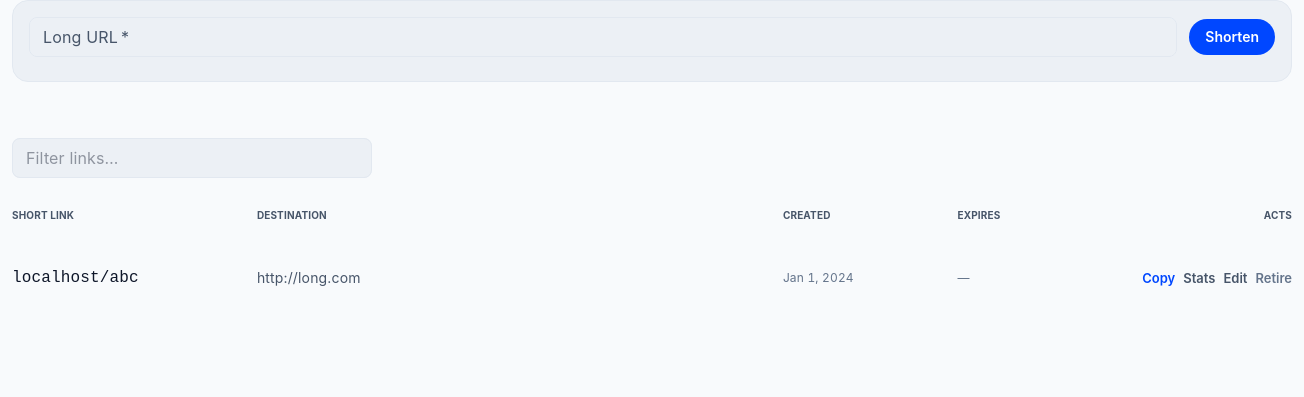
Test case: DashboardPage › in-row destination correction › states a refused destination in place and keeps the correction open
Expected: the element with test id "link-row-abc" is shown, x1=12 y1=265 x2=1292 y2=291
Click the button with test id "edit-abc" at (1236, 278), box x1=1224 y1=265 x2=1248 y2=291
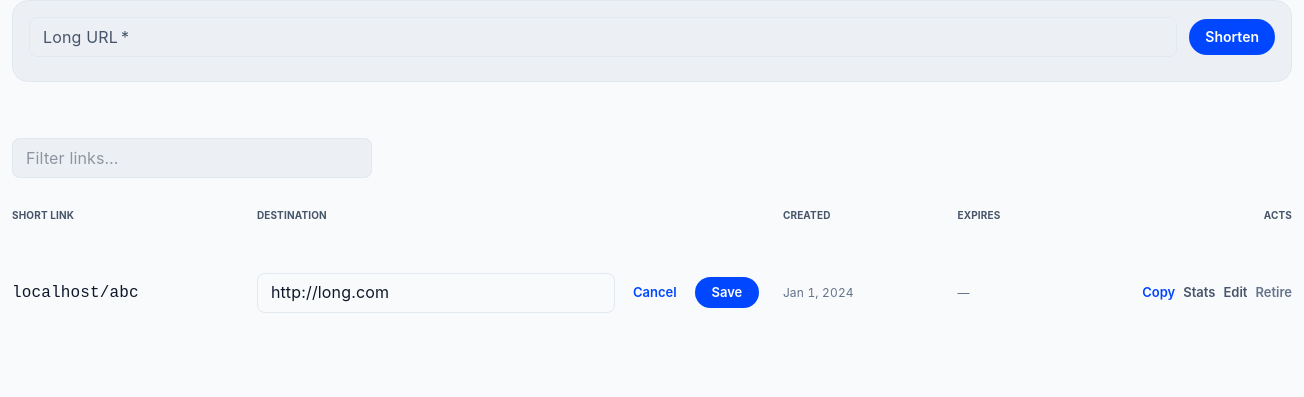
Replace the text in the field with test id "edit-url-input-abc" with "http://denied.example" at (436, 293), box x1=257 y1=273 x2=615 y2=313
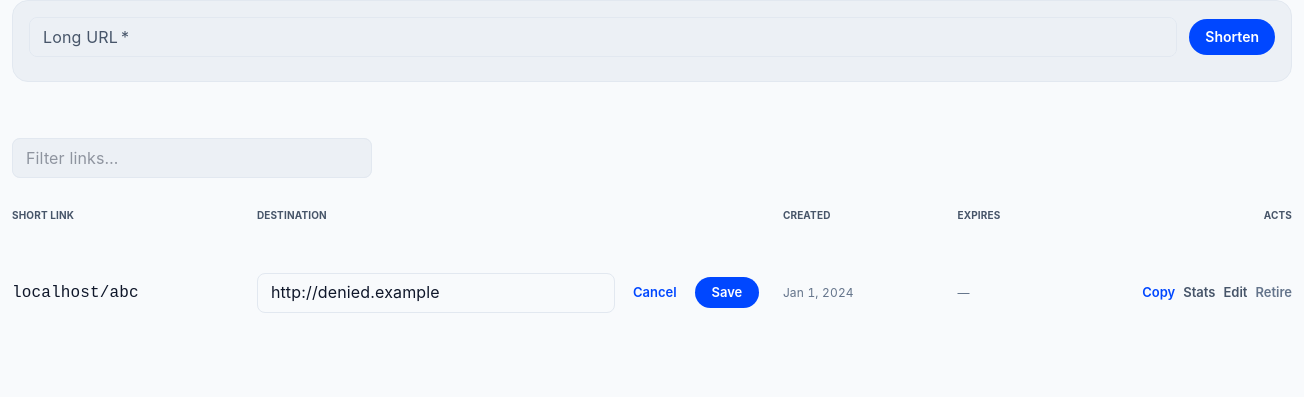
Click the button with test id "edit-confirm-abc" at (727, 293), box x1=695 y1=277 x2=759 y2=308
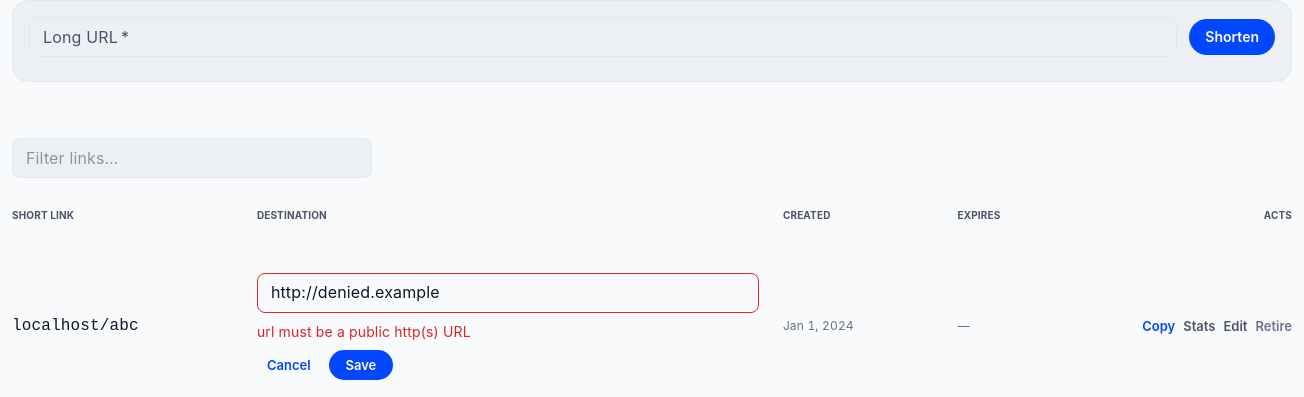
Result: the message with test id "edit-error-abc" reads "url must be a public http(s) URL" at x1=257 y1=323 x2=471 y2=340
